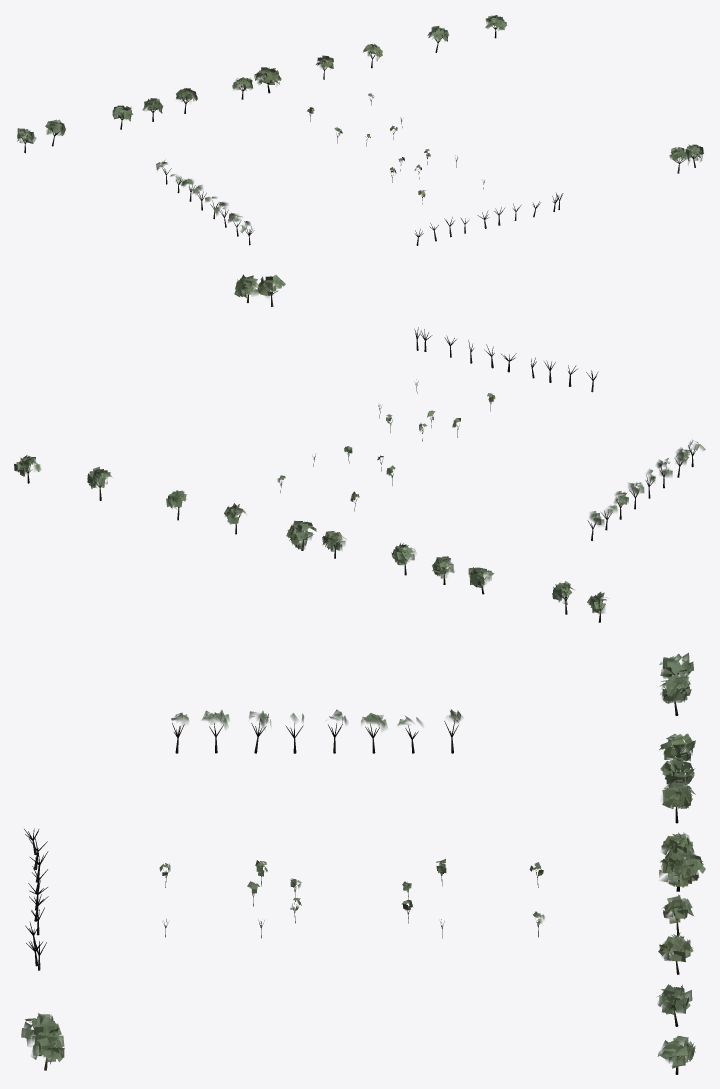
File: SM_Trees.glb
3 views of the same model, one above another, from view 1: azimuth 30°, elevation 25°; view 2: azimuth 150°, elevation 25°; view 3: azimuth 270°, elevation 25° (orthographic). The views are drawn at different scales.
Visible parts, largest first — view 1: SM_Trees_VC; view 2: SM_Trees_VC; view 3: SM_Trees_VC.
Part boxes in pixels (x1=…): SM_Trees_VC: x1=17, y1=15, x2=703, y2=245; SM_Trees_VC: x1=14, y1=274, x2=705, y2=622; SM_Trees_VC: x1=21, y1=652, x2=705, y2=1074.
Size of the model in its own units: 218 by 13.32 by 158.
